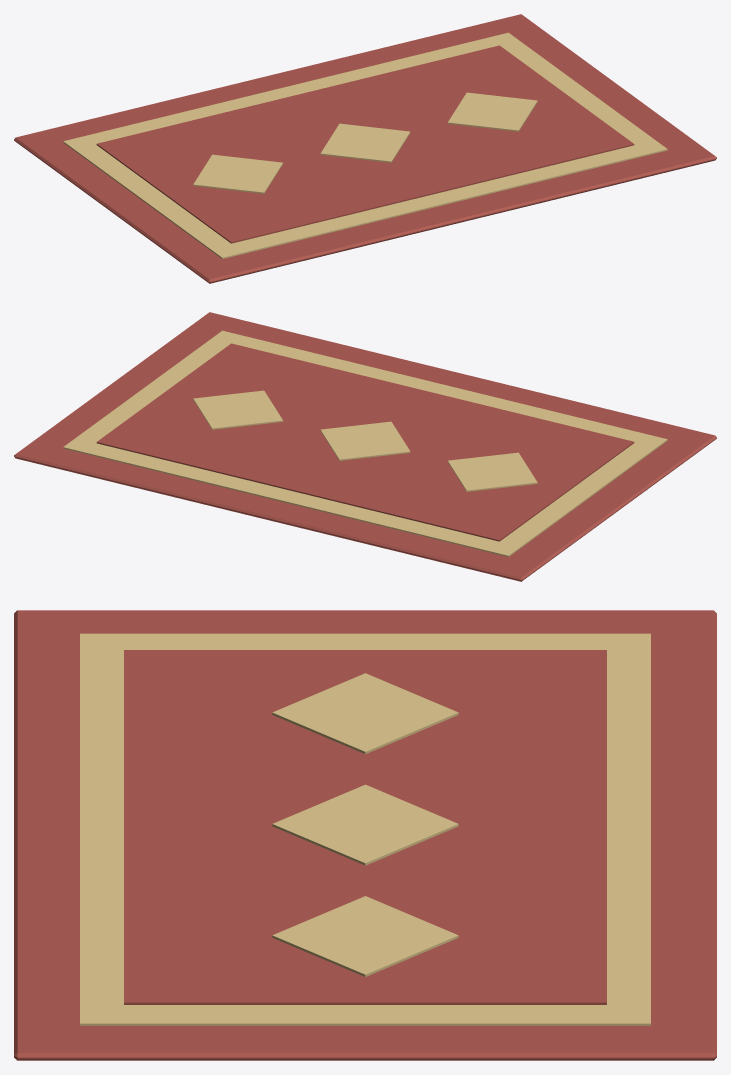
File: hm_rug.glb
3 renders of one model, top to bottom at view 1: azimuth 30°, elevation 25°; view 2: azimuth 150°, elevation 25°; view 3: azimuth 270°, elevation 25°, orthographic. The views are drawn at different scales.
Parts seen in each view (by area): view 1: hm_rug; view 2: hm_rug; view 3: hm_rug.
Boxes of the visible parts, x1=… form: hm_rug: x1=14, y1=14, x2=716, y2=283; hm_rug: x1=14, y1=312, x2=716, y2=581; hm_rug: x1=14, y1=610, x2=716, y2=1060.
Size of the model in its own units: 2.4 by 0.039 by 1.6.
